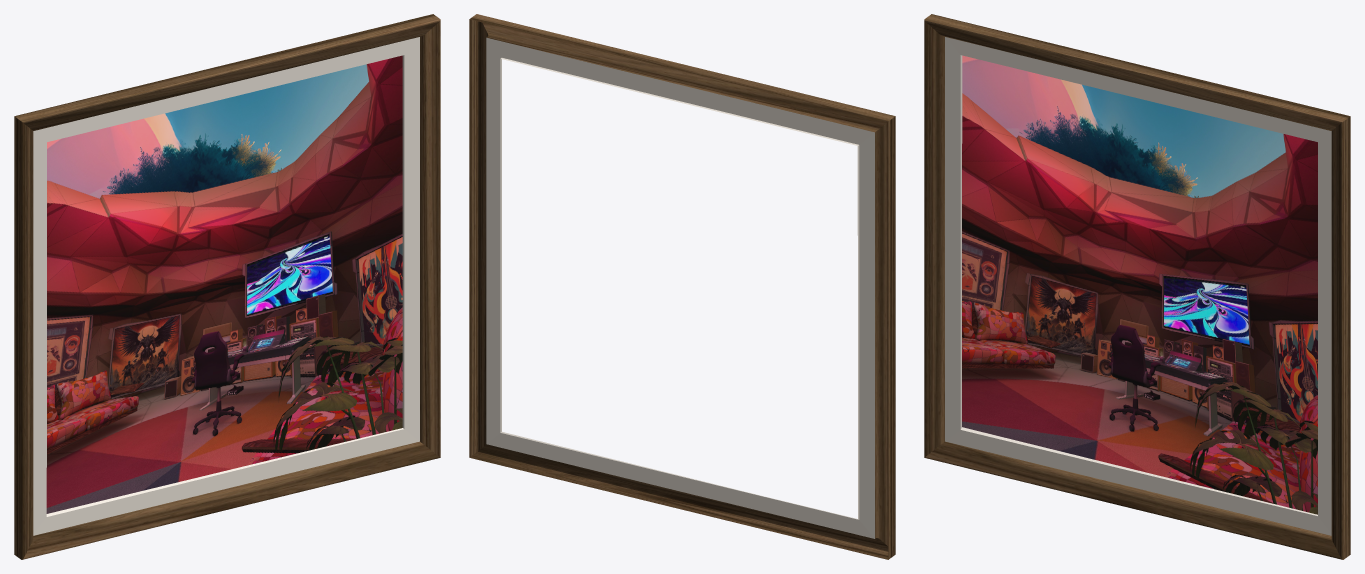
File: artwork10.glb
3 renders of one model, left to right at view 1: azimuth 30°, elevation 25°; view 2: azimuth 150°, elevation 25°; view 3: azimuth 330°, elevation 25°, orthographic.
Visible parts, largest first — view 1: artimage, frame; view 2: frame; view 3: artimage, frame.
Part boxes in pixels (box(x1,y1,x2,y2)): artimage: box(46, 55, 402, 513); frame: box(14, 14, 440, 559); frame: box(469, 14, 895, 559); artimage: box(962, 55, 1317, 514); frame: box(924, 14, 1350, 559).
Size of the model in its own units: 3.71 by 3.71 by 0.1196.
2 materials, 2 textured.
